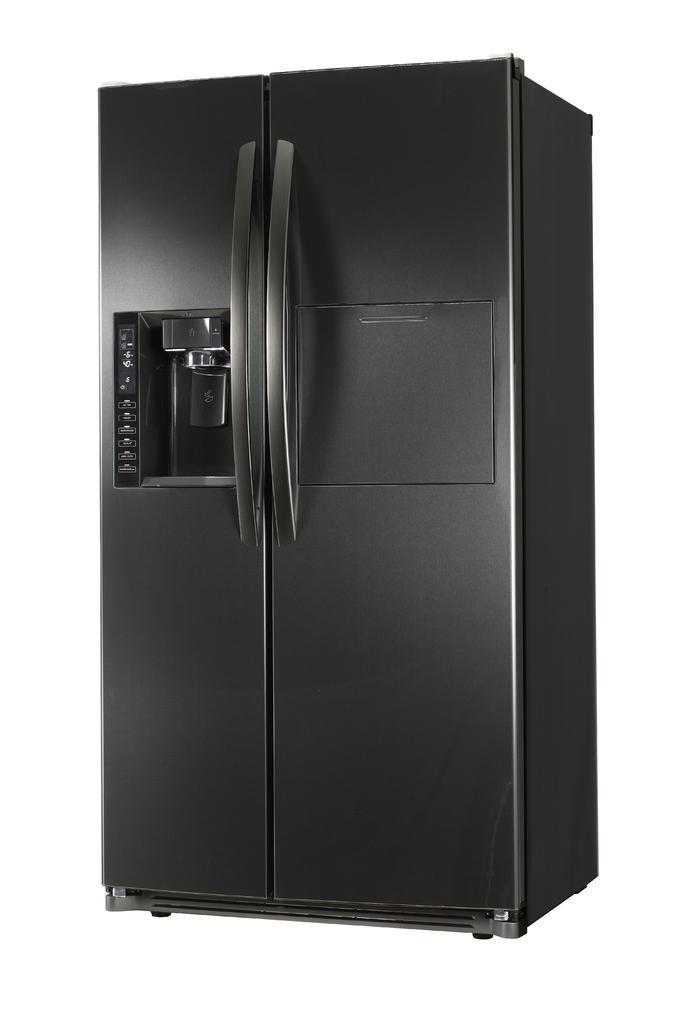handle: (262, 148, 306, 574), (220, 162, 258, 548)
